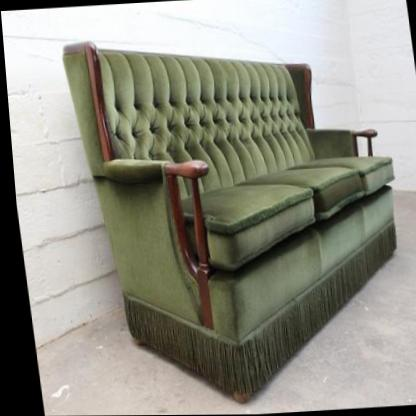Sofa: (59, 22, 416, 413)
